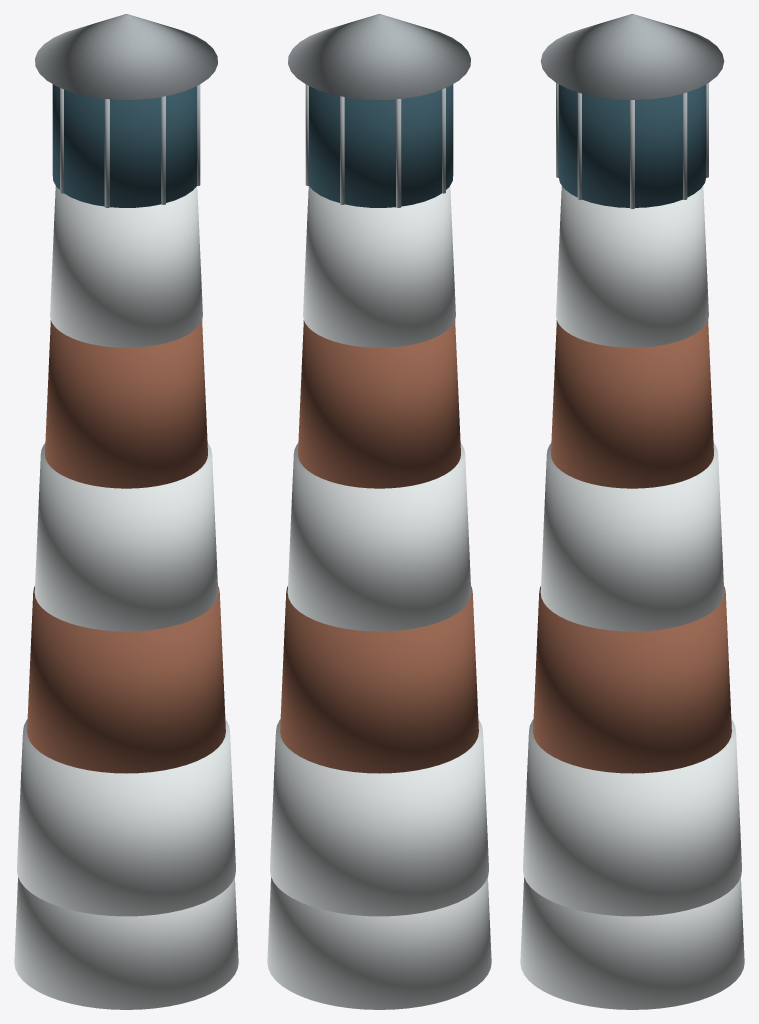
File: SM_Lighthouse.fbx
The picture shows the model from 3 angles, left to right: view 1: azimuth 30°, elevation 25°; view 2: azimuth 150°, elevation 25°; view 3: azimuth 270°, elevation 25°; orthographic projection.
Parts seen in each view (by area): view 1: SM_Lighthouse; view 2: SM_Lighthouse; view 3: SM_Lighthouse.
Boxes of the visible parts, box(x1,y1,x2,y2) form: SM_Lighthouse: box(14, 14, 238, 1009); SM_Lighthouse: box(267, 14, 491, 1009); SM_Lighthouse: box(520, 14, 744, 1009).
Bounding box in the file's own units: 440 × 440 × 2050.
